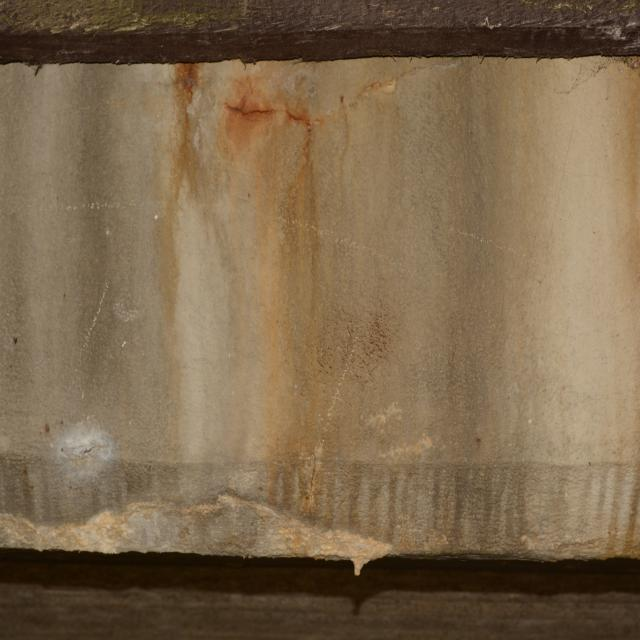corrosion: (161, 64, 437, 556), (602, 62, 640, 560)
